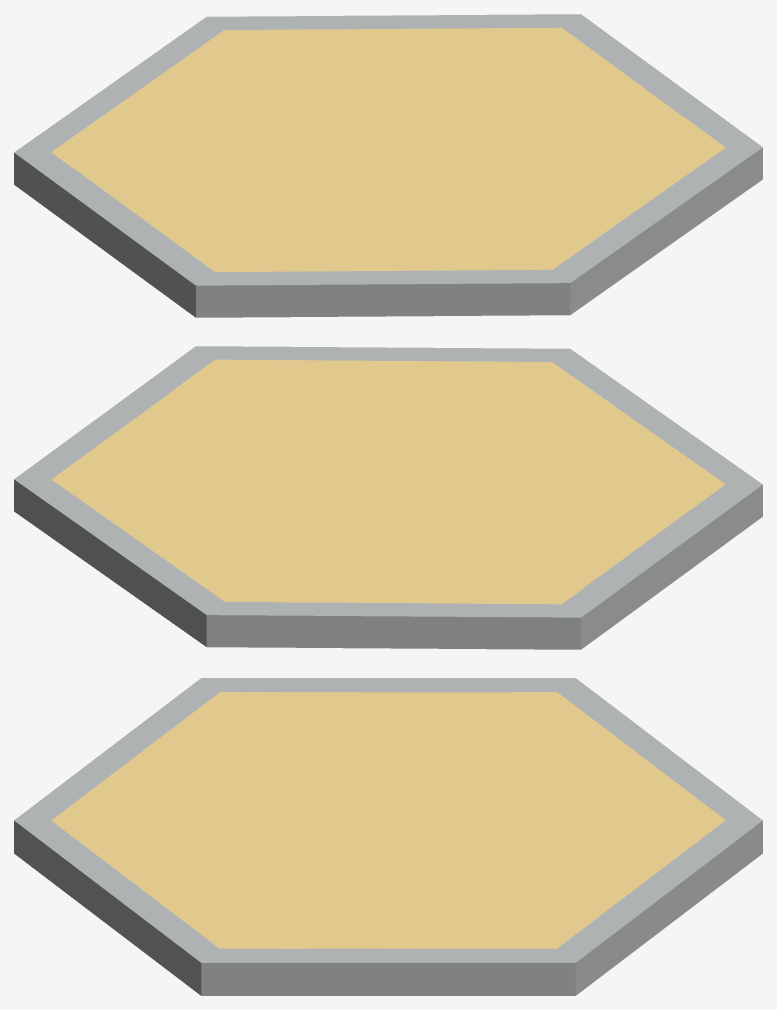
The model's file is Hexa_1_LP_Integration.fbx.
3 views of the same model, one above another, from view 1: azimuth 30°, elevation 25°; view 2: azimuth 150°, elevation 25°; view 3: azimuth 270°, elevation 25° (orthographic). The views are drawn at different scales.
Parts seen in each view (by area): view 1: Tile_Hex_LP; view 2: Tile_Hex_LP; view 3: Tile_Hex_LP.
Part boxes in pixels (box(x1,y1,x2,y2)): Tile_Hex_LP: box(14, 14, 762, 317); Tile_Hex_LP: box(14, 346, 762, 649); Tile_Hex_LP: box(14, 678, 762, 995).
Size of the model in its own units: 180 by 9.75 by 200.
1 material, 1 textured.
